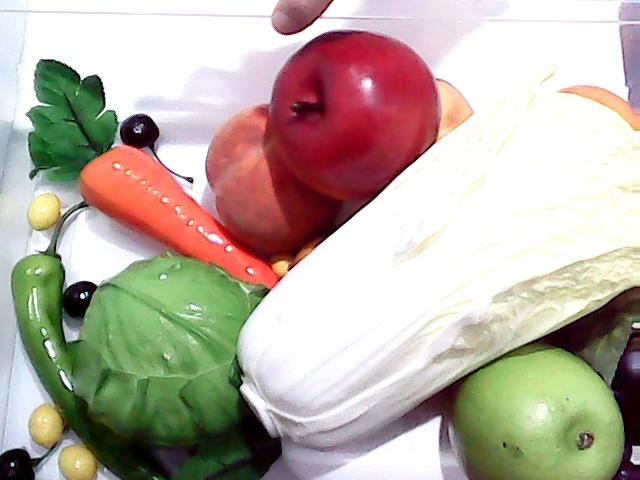apple: (263, 22, 441, 202), (448, 338, 622, 476)
cabbage: (80, 257, 276, 474)
carrot: (27, 57, 285, 293)
lemon: (542, 67, 640, 131)
mango: (288, 232, 336, 274)
napa cabbage: (234, 63, 640, 446)
peach: (204, 99, 350, 249)
pepper: (8, 228, 188, 480)
potato: (430, 77, 474, 142)
